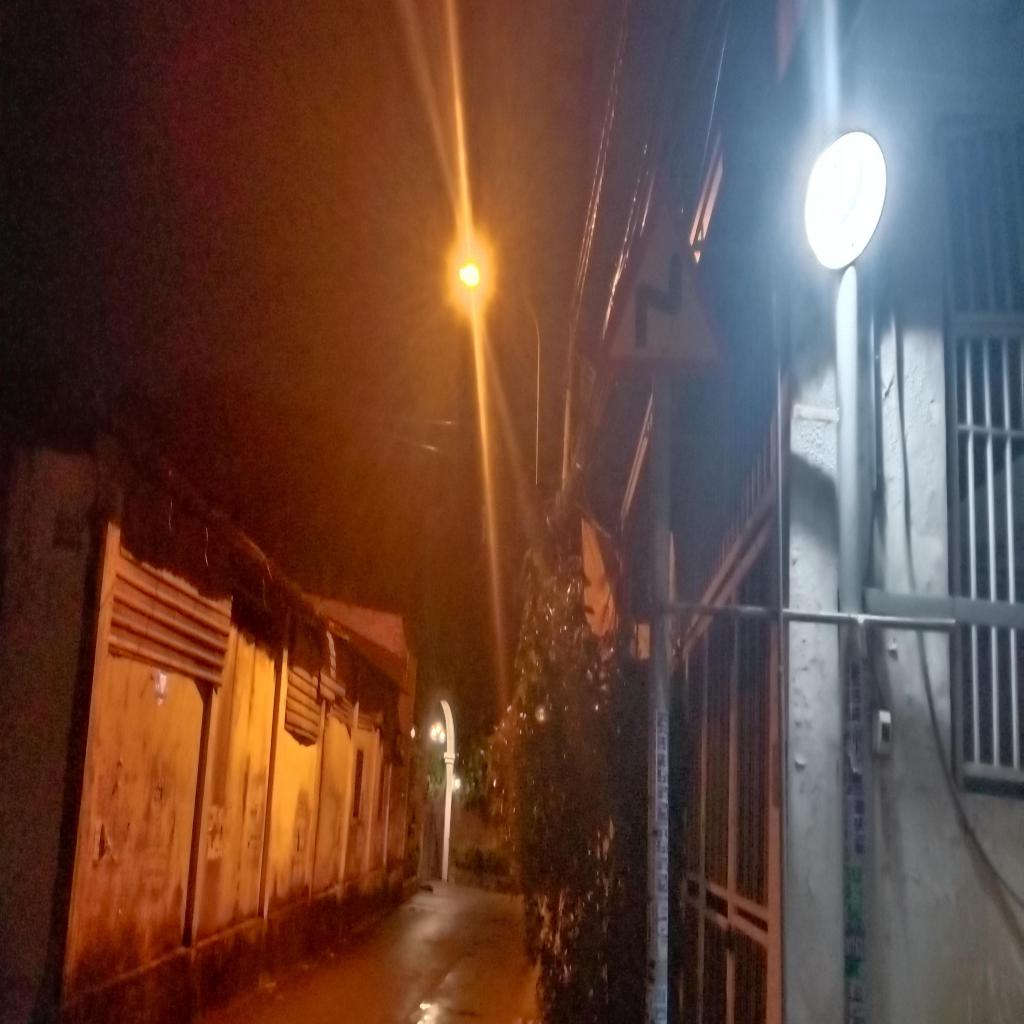cho_ngoat_nguy_hiem_lien_tiep: (595, 180, 730, 374)
